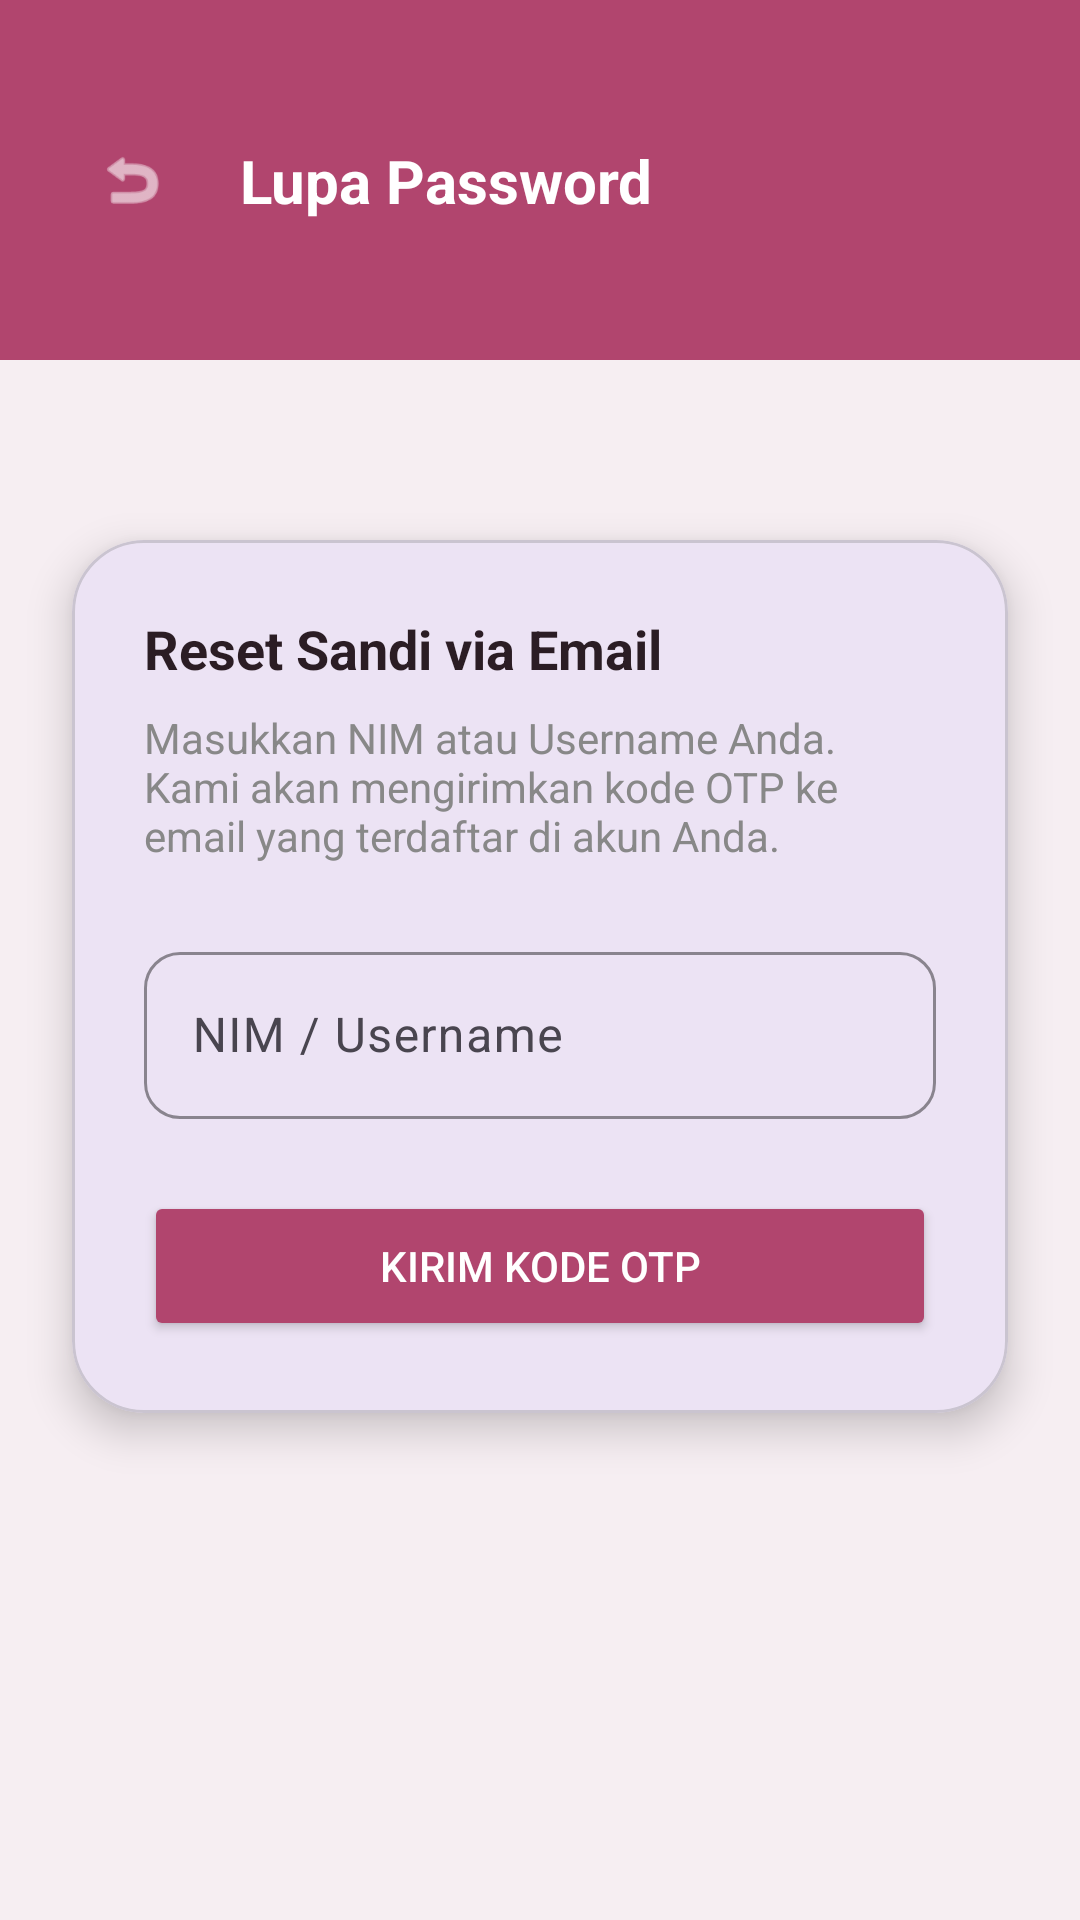

Icons on this 1080x1920 Android screen, each with its box as (x1, y1, x2, y2):
revert: (107, 157, 159, 204)
